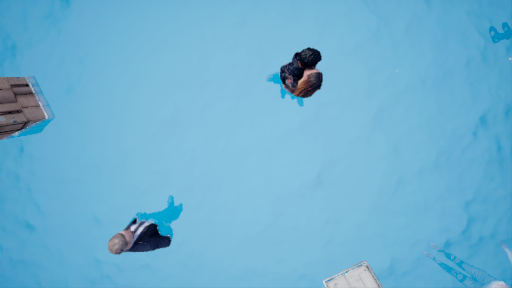person: (263, 46, 341, 109), (100, 200, 187, 255)
